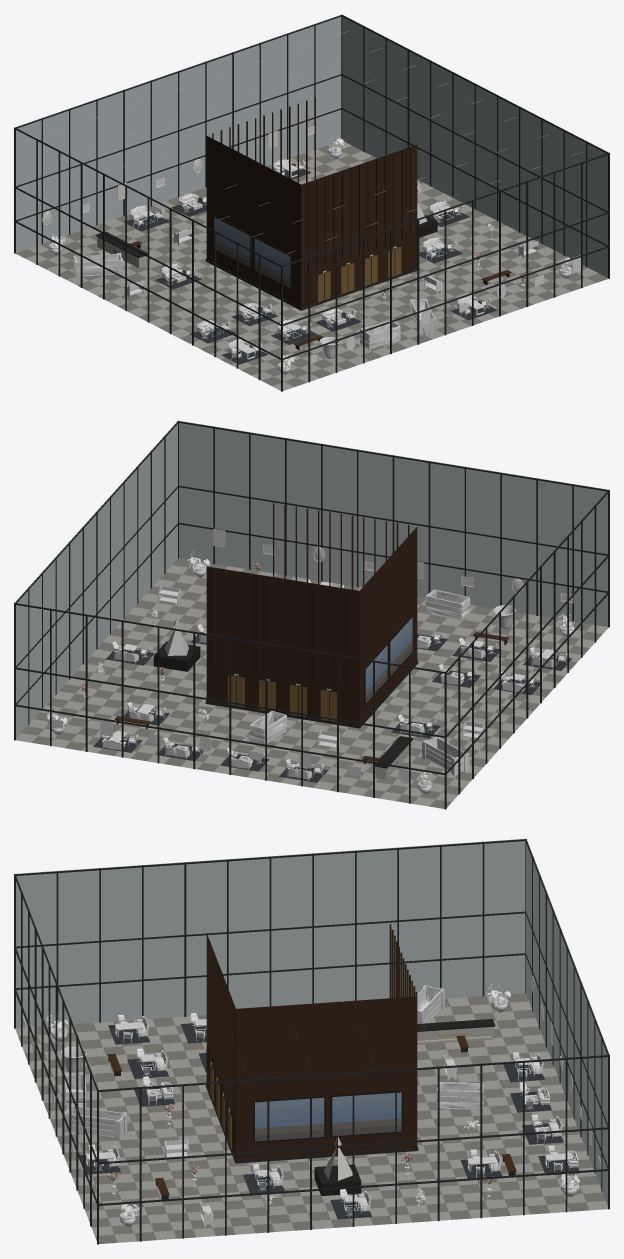
Rendered from transamerica_int.glb.
The picture shows the model from 3 angles, top to bottom: view 1: azimuth 30°, elevation 25°; view 2: azimuth 150°, elevation 25°; view 3: azimuth 270°, elevation 25°; orthographic projection. The views are drawn at different scales.
Visible parts, largest first — view 1: I_glassI, I_x_marble_black, I_x_veneer, I_metal, I_x_carpet_red, I_screen, I_p_planter_box_02__0, I_x_gold, I_p_Sofa_01__0, I_p_painted_wooden_bench__0, I_p_sofa_03__0, I_p_planter_box_01__0 (+3 smaller); view 2: I_glassI, I_x_marble_black, I_x_veneer, I_metal, I_x_carpet_red, I_p_planter_box_01__0, I_x_gold, I_screen, I_p_Sofa_01__0, I_p_planter_box_02__0, I_p_painted_wooden_bench__0, I_p_sofa_03__0 (+4 smaller); view 3: I_glassI, I_x_marble_black, I_metal, I_x_veneer, I_screen, I_x_carpet_red, I_p_planter_box_02__0, I_p_planter_box_01__0, I_p_Sofa_01__0, I_x_marble_white, I_p_painted_wooden_bench__0, I_p_modern_coffee_table_01__0 (+7 smaller).
Boxes of the visible parts, bbox=[...] form: I_glassI: bbox=[15, 14, 608, 277]; I_x_marble_black: bbox=[15, 142, 607, 390]; I_x_veneer: bbox=[113, 97, 511, 346]; I_metal: bbox=[14, 14, 609, 391]; I_x_carpet_red: bbox=[123, 163, 497, 364]; I_screen: bbox=[214, 217, 290, 288]; I_p_planter_box_02__0: bbox=[73, 252, 436, 335]; I_x_gold: bbox=[317, 246, 401, 302]; I_p_Sofa_01__0: bbox=[130, 201, 478, 353]; I_p_painted_wooden_bench__0: bbox=[124, 227, 538, 298]; I_p_sofa_03__0: bbox=[178, 159, 342, 332]; I_p_planter_box_01__0: bbox=[360, 321, 400, 349]; I_glassI: bbox=[15, 421, 608, 738]; I_x_marble_black: bbox=[16, 558, 608, 808]; I_x_veneer: bbox=[114, 503, 509, 764]; I_metal: bbox=[14, 421, 609, 809]; I_x_carpet_red: bbox=[93, 632, 572, 782]; I_p_planter_box_01__0: bbox=[249, 589, 470, 744]; I_x_gold: bbox=[228, 675, 336, 721]; I_screen: bbox=[365, 617, 412, 703]; I_p_Sofa_01__0: bbox=[114, 634, 556, 780]; I_p_planter_box_02__0: bbox=[422, 736, 469, 775]; I_p_painted_wooden_bench__0: bbox=[158, 585, 484, 750]; I_p_sofa_03__0: bbox=[102, 639, 524, 769]; I_glassI: bbox=[15, 838, 608, 1205]; I_x_marble_black: bbox=[15, 993, 607, 1243]; I_metal: bbox=[14, 839, 609, 1244]; I_x_veneer: bbox=[107, 924, 516, 1196]; I_screen: bbox=[255, 1092, 401, 1141]; I_x_carpet_red: bbox=[80, 1023, 579, 1219]; I_p_planter_box_02__0: bbox=[64, 985, 444, 1140]; I_p_planter_box_01__0: bbox=[64, 1072, 483, 1110]; I_p_Sofa_01__0: bbox=[106, 1016, 562, 1212]; I_x_marble_white: bbox=[417, 1026, 493, 1044]; I_p_painted_wooden_bench__0: bbox=[164, 1001, 456, 1227]; I_p_modern_coffee_table_01__0: bbox=[86, 1022, 573, 1171].
Bounding box in the file's own units: 44.09 × 12.6 × 44.09.
